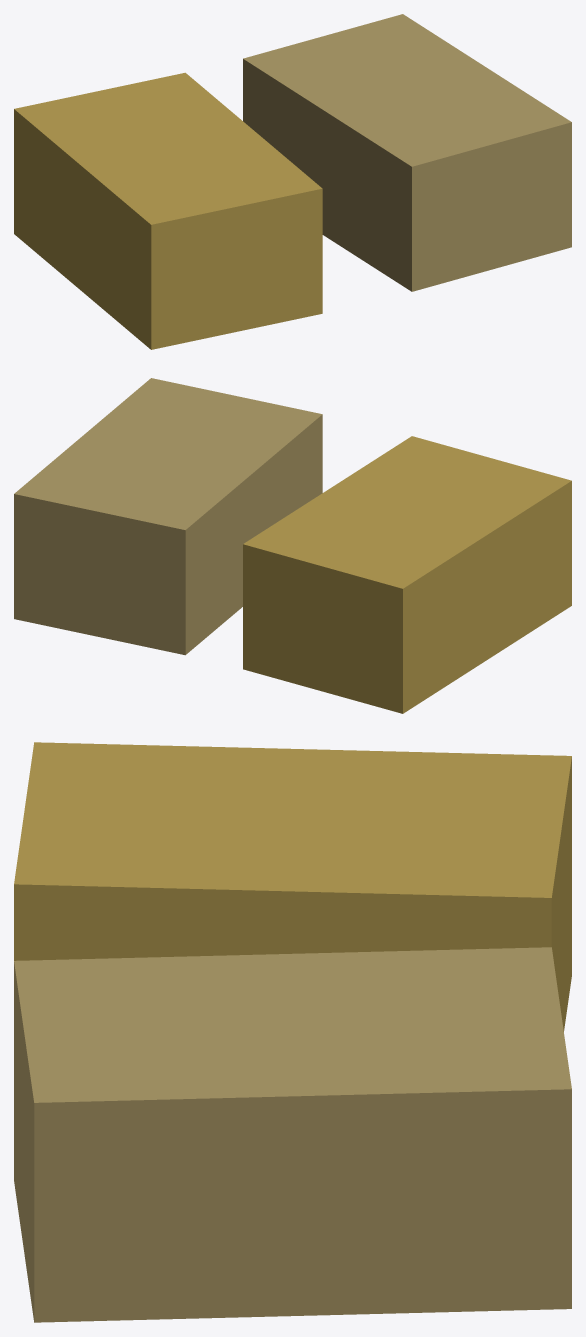
Rendered from feet.glb.
3 views of the same model, one above another, from view 1: azimuth 30°, elevation 25°; view 2: azimuth 150°, elevation 25°; view 3: azimuth 270°, elevation 25° (orthographic). The views are drawn at different scales.
Visible parts, largest first — view 1: boot_-1, boot_1; view 2: boot_-1, boot_1; view 3: boot_1, boot_-1.
Boxes of the visible parts, x1,y1,x2,y2 form: boot_-1: (14,72,322,349); boot_1: (243,14,571,291); boot_-1: (243,436,571,713); boot_1: (14,378,322,655); boot_1: (14,947,571,1322); boot_-1: (14,742,571,1031).
Size of the model in its own units: 0.6335 by 0.18 by 0.4143.
